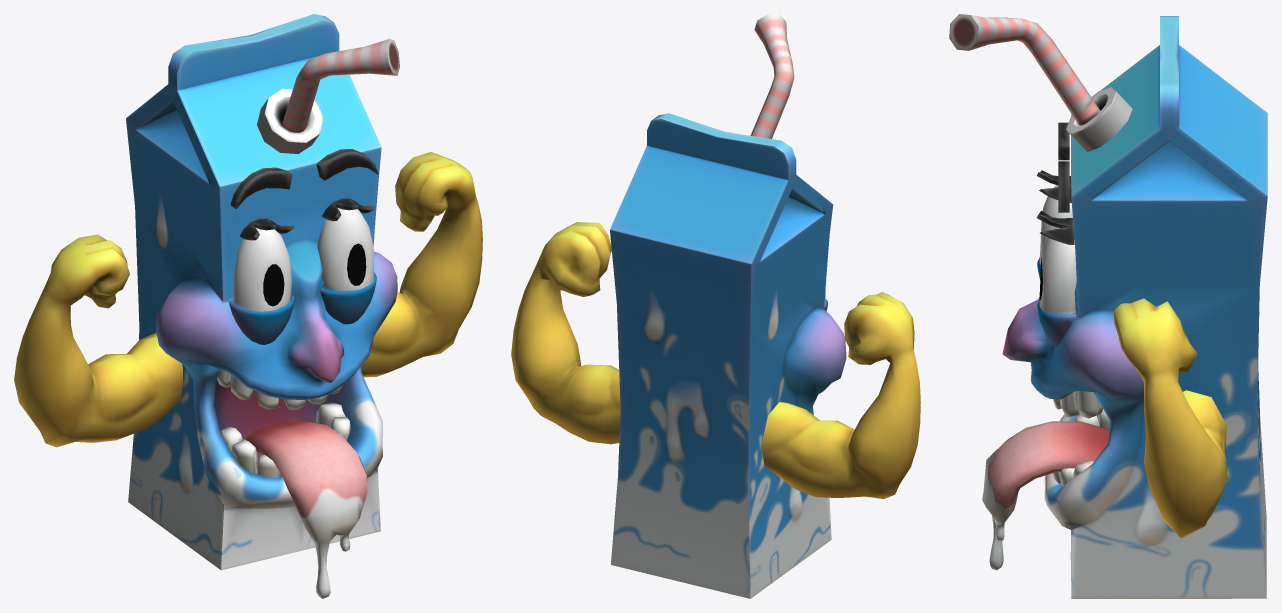
Rendered from MagicMilk-v1.glb.
3 renders of one model, left to right at view 1: azimuth 30°, elevation 25°; view 2: azimuth 150°, elevation 25°; view 3: azimuth 270°, elevation 25°, orthographic. The views are drawn at different scales.
Visible parts, largest first — view 1: SM_MagicMilk; view 2: SM_MagicMilk; view 3: SM_MagicMilk.
Part boxes in pixels (box(x1,y1,x2,y2)): SM_MagicMilk: box(14, 14, 482, 598); SM_MagicMilk: box(511, 14, 920, 598); SM_MagicMilk: box(949, 14, 1267, 598).
Bounding box in the file's own units: 1.12 × 1.31 × 0.6482.
1 material, 1 textured.
